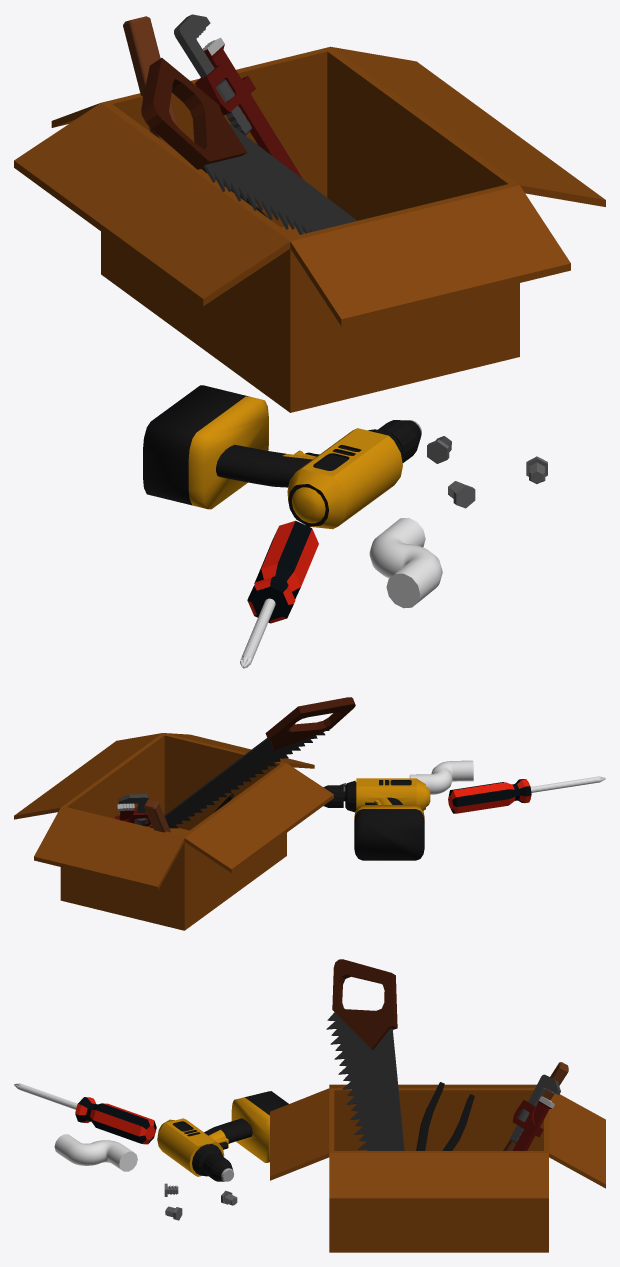
File: Tools.FBX
3 renders of one model, top to bottom at view 1: azimuth 30°, elevation 25°; view 2: azimuth 150°, elevation 25°; view 3: azimuth 270°, elevation 25°, orthographic. The views are drawn at different scales.
Visible parts, largest first — view 1: Box001, Driller, Saw, Pipe Wrench, Screwdriver, Torus61, Hammer; view 2: Box001, Driller, Saw, Screwdriver, Torus61, Pipe Wrench, Hammer; view 3: Box001, Saw, Driller, Screwdriver, Torus61, Pipe Wrench, Pliers, Hammer.
Part boxes in pixels (left/top/right/bottom): Box001: left=14, top=46, right=605, bottom=412; Driller: left=143, top=385, right=421, bottom=529; Saw: left=141, top=58, right=357, bottom=234; Pipe Wrench: left=174, top=14, right=302, bottom=178; Screwdriver: left=240, top=520, right=318, bottom=668; Torus61: left=369, top=517, right=442, bottom=608; Hammer: left=123, top=16, right=178, bottom=149; Box001: left=14, top=733, right=333, bottom=930; Driller: left=323, top=778, right=430, bottom=860; Saw: left=149, top=697, right=355, bottom=828; Screwdriver: left=448, top=776, right=605, bottom=813; Torus61: left=409, top=760, right=473, bottom=794; Pipe Wrench: left=115, top=794, right=151, bottom=826; Hammer: left=144, top=799, right=170, bottom=832; Box001: left=270, top=1084, right=605, bottom=1252; Saw: left=326, top=959, right=404, bottom=1150; Driller: left=157, top=1091, right=288, bottom=1181; Screwdriver: left=14, top=1083, right=156, bottom=1144; Torus61: left=54, top=1134, right=137, bottom=1171; Pipe Wrench: left=510, top=1074, right=560, bottom=1150; Pliers: left=416, top=1082, right=474, bottom=1150; Hammer: left=503, top=1062, right=568, bottom=1150.
Size of the model in its own units: 1.94 by 0.9735 by 2.7.
